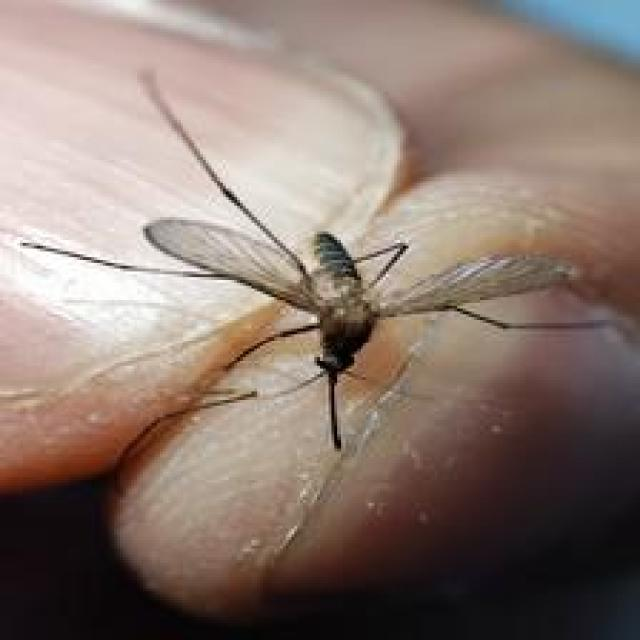Culex: (17, 67, 600, 453)
